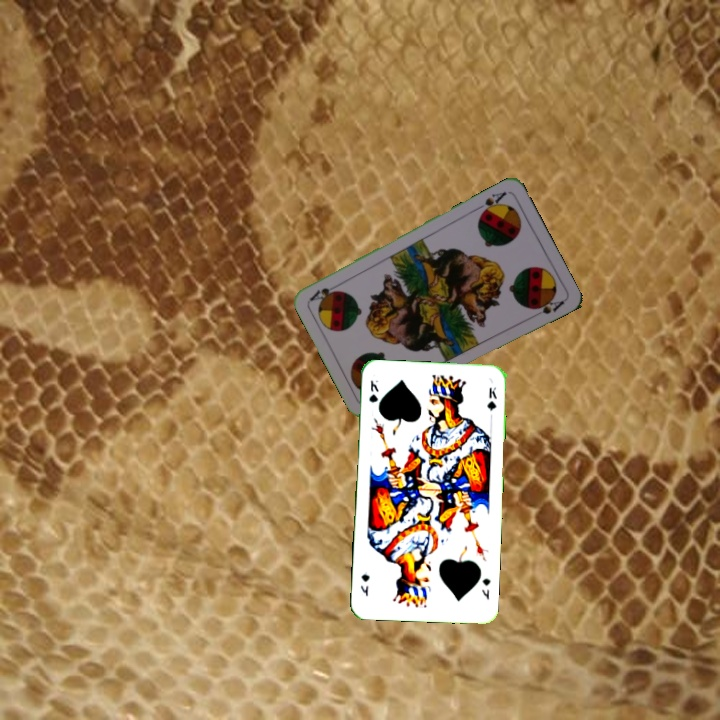GK: (365, 376, 381, 405), (478, 574, 493, 602)
SA: (472, 187, 509, 218)
